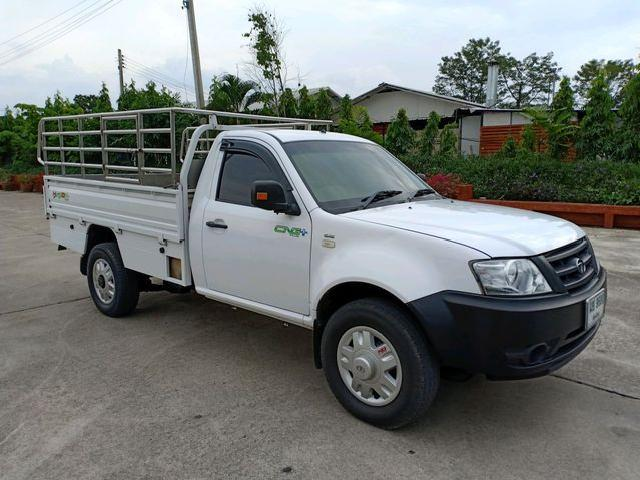pickup: (38, 119, 608, 430)
